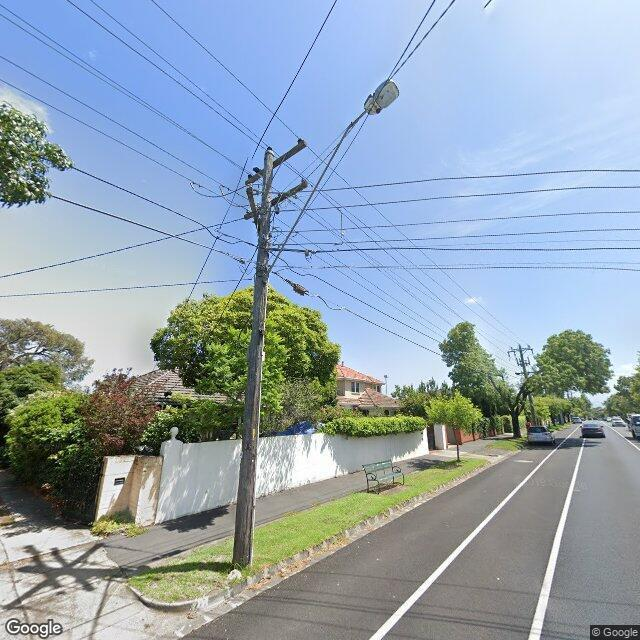HV-transmission: (248, 138, 304, 179), (510, 344, 530, 350)
crossarm: (245, 140, 308, 186), (244, 181, 308, 221), (247, 188, 260, 231), (507, 348, 534, 353), (514, 371, 538, 375), (518, 362, 531, 366)
streetlight: (262, 79, 399, 284)
timber-pole: (232, 149, 274, 570), (518, 344, 536, 427)
